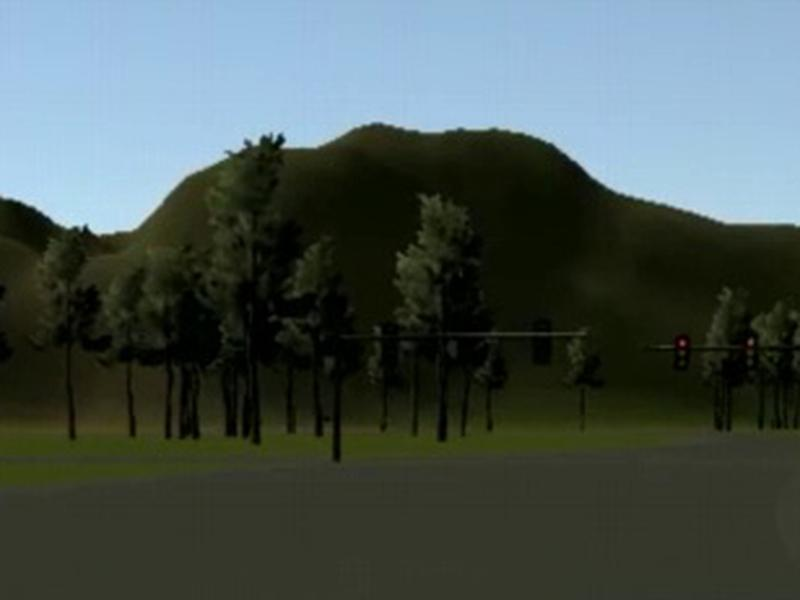Red: (672, 334, 691, 372), (742, 335, 759, 370)
